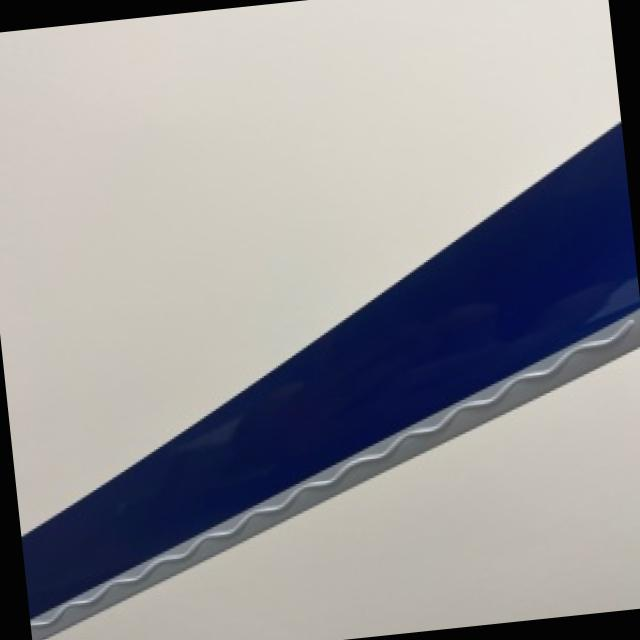healthy: (20, 121, 640, 640), (41, 349, 640, 640)
